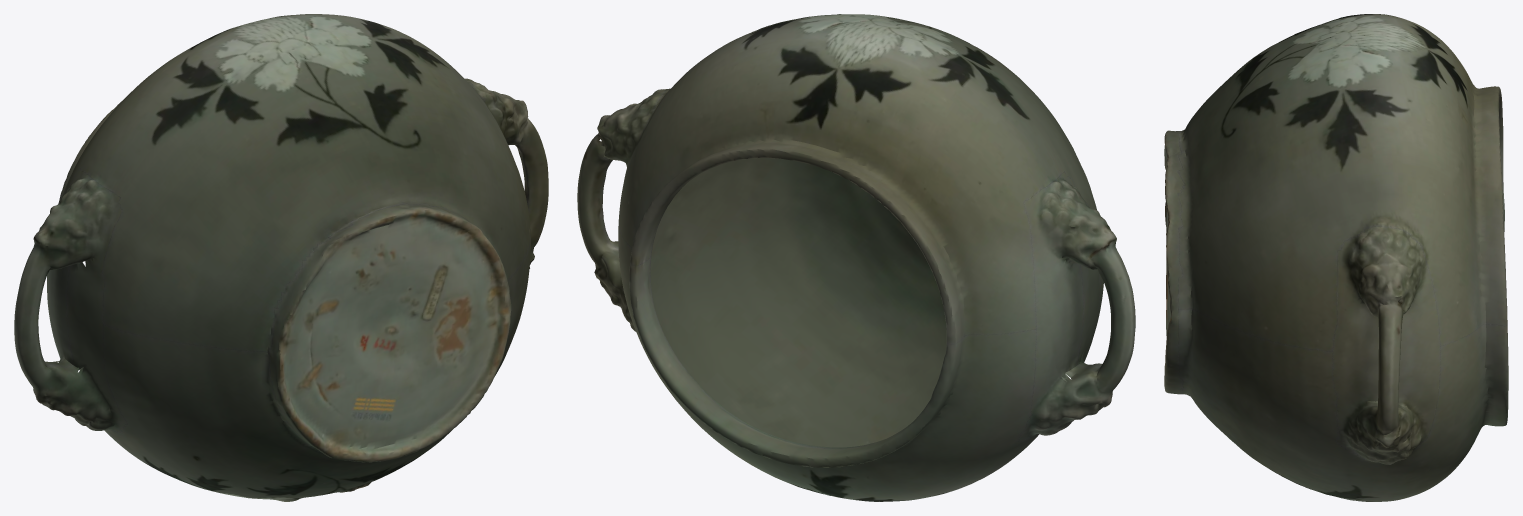
Rendered from nmk-1477.glb.
3 renders of one model, left to right at view 1: azimuth 30°, elevation 25°; view 2: azimuth 150°, elevation 25°; view 3: azimuth 270°, elevation 25°, orthographic. The views are drawn at different scales.
Visible parts, largest first — view 1: duk006238-000-30000; view 2: duk006238-000-30000; view 3: duk006238-000-30000.
Part boxes in pixels (x1=…): duk006238-000-30000: x1=14, y1=14, x2=548, y2=501; duk006238-000-30000: x1=577, y1=14, x2=1135, y2=501; duk006238-000-30000: x1=1164, y1=14, x2=1508, y2=501.
Bounding box in the file's own units: 1.42 × 1.15 × 0.8157.
1 material, 1 textured.
